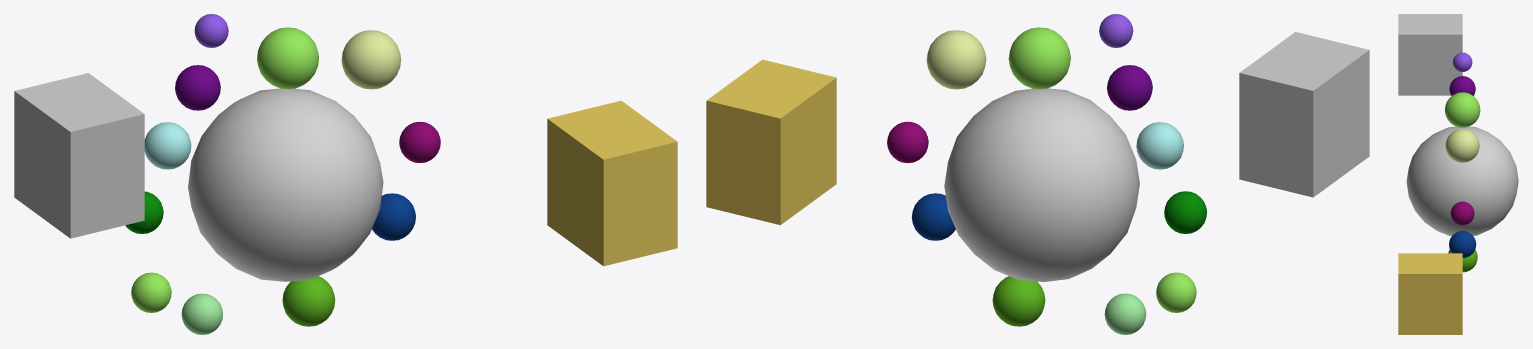
The picture shows the model from 3 angles, left to right: view 1: azimuth 30°, elevation 25°; view 2: azimuth 150°, elevation 25°; view 3: azimuth 270°, elevation 25°; orthographic projection. The views are drawn at different scales.
Parts seen in each view (by area): view 1: GeoSphere01, Box01, Box02, GeoSphere11, GeoSphere02, GeoSphere05, GeoSphere09, GeoSphere10, GeoSphere04, GeoSphere07, GeoSphere03, GeoSphere06 (+2 smaller); view 2: GeoSphere01, Box01, Box02, GeoSphere11, GeoSphere02, GeoSphere05, GeoSphere09, GeoSphere10, GeoSphere04, GeoSphere08, GeoSphere07, GeoSphere03 (+2 smaller); view 3: GeoSphere01, Box01, Box02, GeoSphere11, GeoSphere02, GeoSphere04, GeoSphere03, GeoSphere10, GeoSphere12, GeoSphere05.
Part boxes in pixels (x1,y1,x2,y2): GeoSphere01: (188, 88, 383, 281); Box01: (547, 100, 677, 266); Box02: (14, 73, 144, 238); GeoSphere11: (257, 27, 318, 89); GeoSphere02: (341, 30, 401, 89); GeoSphere05: (282, 276, 335, 326); GeoSphere09: (144, 122, 191, 169); GeoSphere10: (175, 65, 220, 110); GeoSphere04: (372, 193, 415, 240); GeoSphere07: (181, 293, 222, 334); GeoSphere03: (399, 121, 440, 162); GeoSphere06: (131, 272, 171, 312); GeoSphere01: (944, 88, 1139, 281); Box01: (706, 59, 836, 225); Box02: (1239, 32, 1369, 197); GeoSphere11: (1008, 27, 1070, 89); GeoSphere02: (926, 30, 986, 89); GeoSphere05: (992, 276, 1045, 326); GeoSphere09: (1136, 122, 1183, 169); GeoSphere10: (1107, 65, 1152, 110); GeoSphere04: (911, 193, 955, 240); GeoSphere08: (1164, 191, 1206, 233); GeoSphere07: (1104, 293, 1146, 334); GeoSphere03: (887, 121, 928, 162); GeoSphere01: (1406, 126, 1518, 235); Box01: (1398, 253, 1462, 334); Box02: (1398, 14, 1462, 95); GeoSphere11: (1444, 92, 1480, 127); GeoSphere02: (1445, 128, 1479, 162); GeoSphere04: (1449, 231, 1476, 257); GeoSphere03: (1450, 201, 1474, 225); GeoSphere10: (1449, 76, 1475, 95); GeoSphere12: (1453, 52, 1472, 71); GeoSphere05: (1448, 249, 1477, 272).
Size of the model in its own units: 169 by 88.3 by 50.56.
